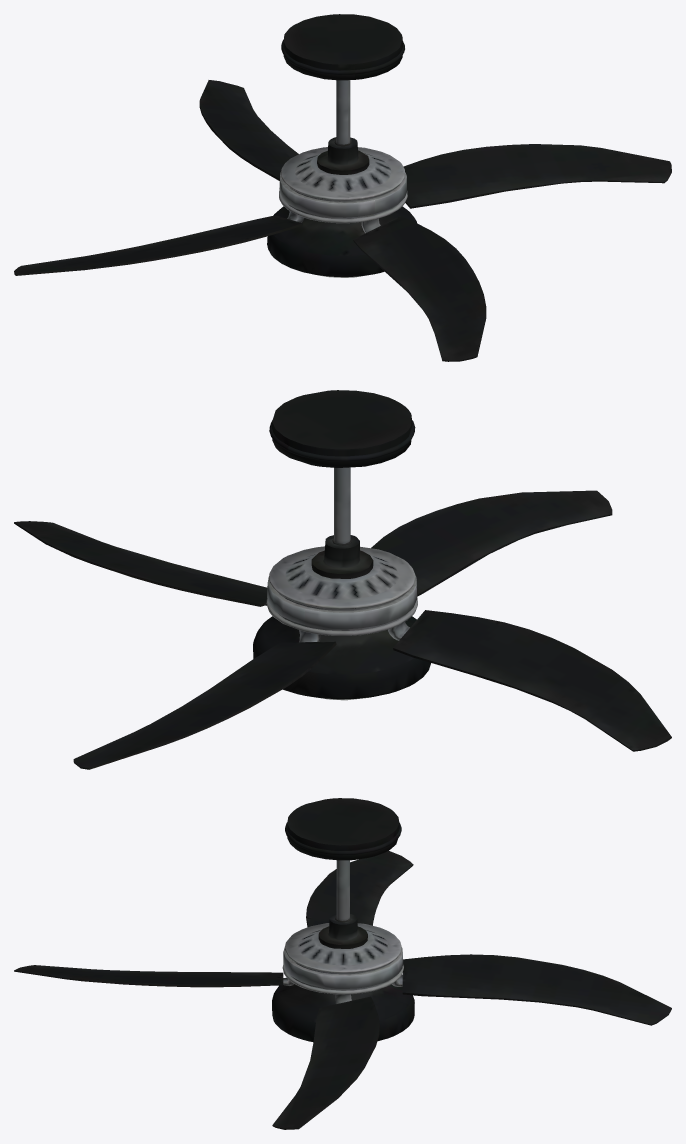
The model's file is p_ceiling_fan.glb.
3 views of the same model, one above another, from view 1: azimuth 30°, elevation 25°; view 2: azimuth 150°, elevation 25°; view 3: azimuth 270°, elevation 25° (orthographic). The views are drawn at different scales.
Visible parts, largest first — view 1: ceiling_fan; view 2: ceiling_fan; view 3: ceiling_fan.
Part boxes in pixels (x1,y1,x2,y2): ceiling_fan: (14,14,671,361); ceiling_fan: (14,390,671,769); ceiling_fan: (14,798,671,1129).
Size of the model in its own units: 1.46 by 0.5163 by 1.46.
1 material, 1 textured.
